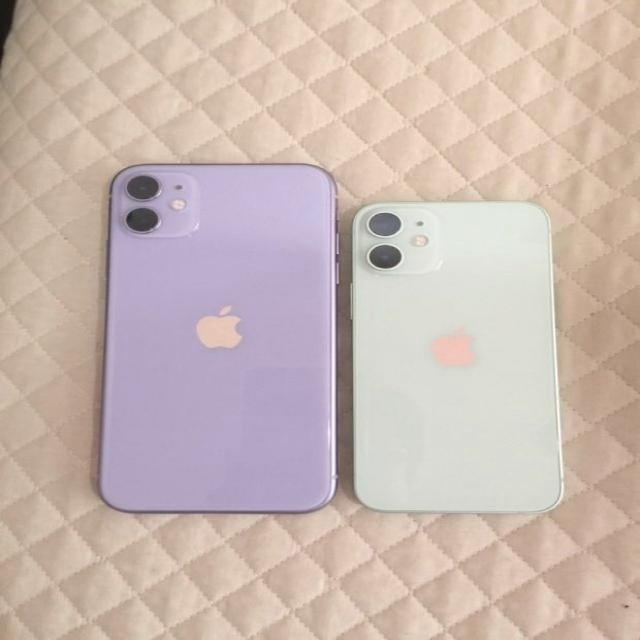phone: (104, 160, 341, 512), (352, 199, 561, 513)
